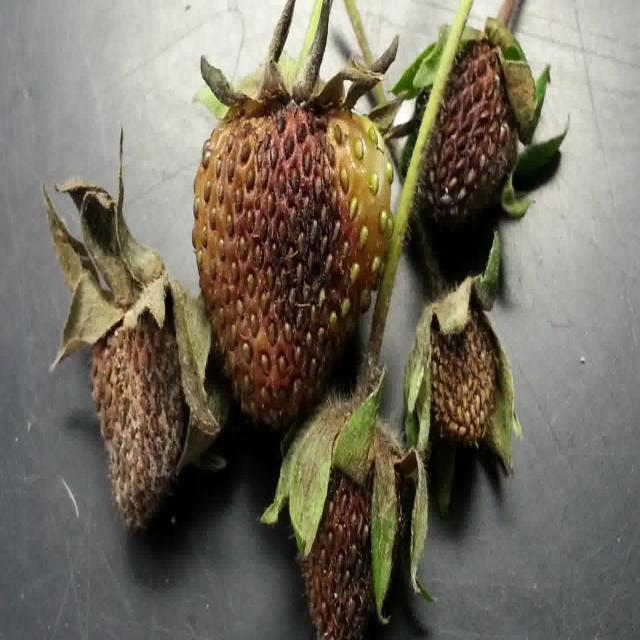Podredumbre de cuero: (193, 67, 410, 409), (62, 258, 220, 550), (276, 432, 416, 638), (422, 30, 532, 239), (418, 284, 516, 458)
